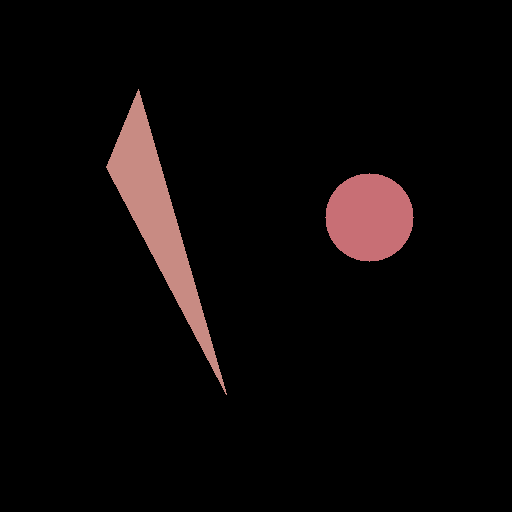circle: (325, 173, 413, 261)
triangle: (106, 89, 226, 394)
